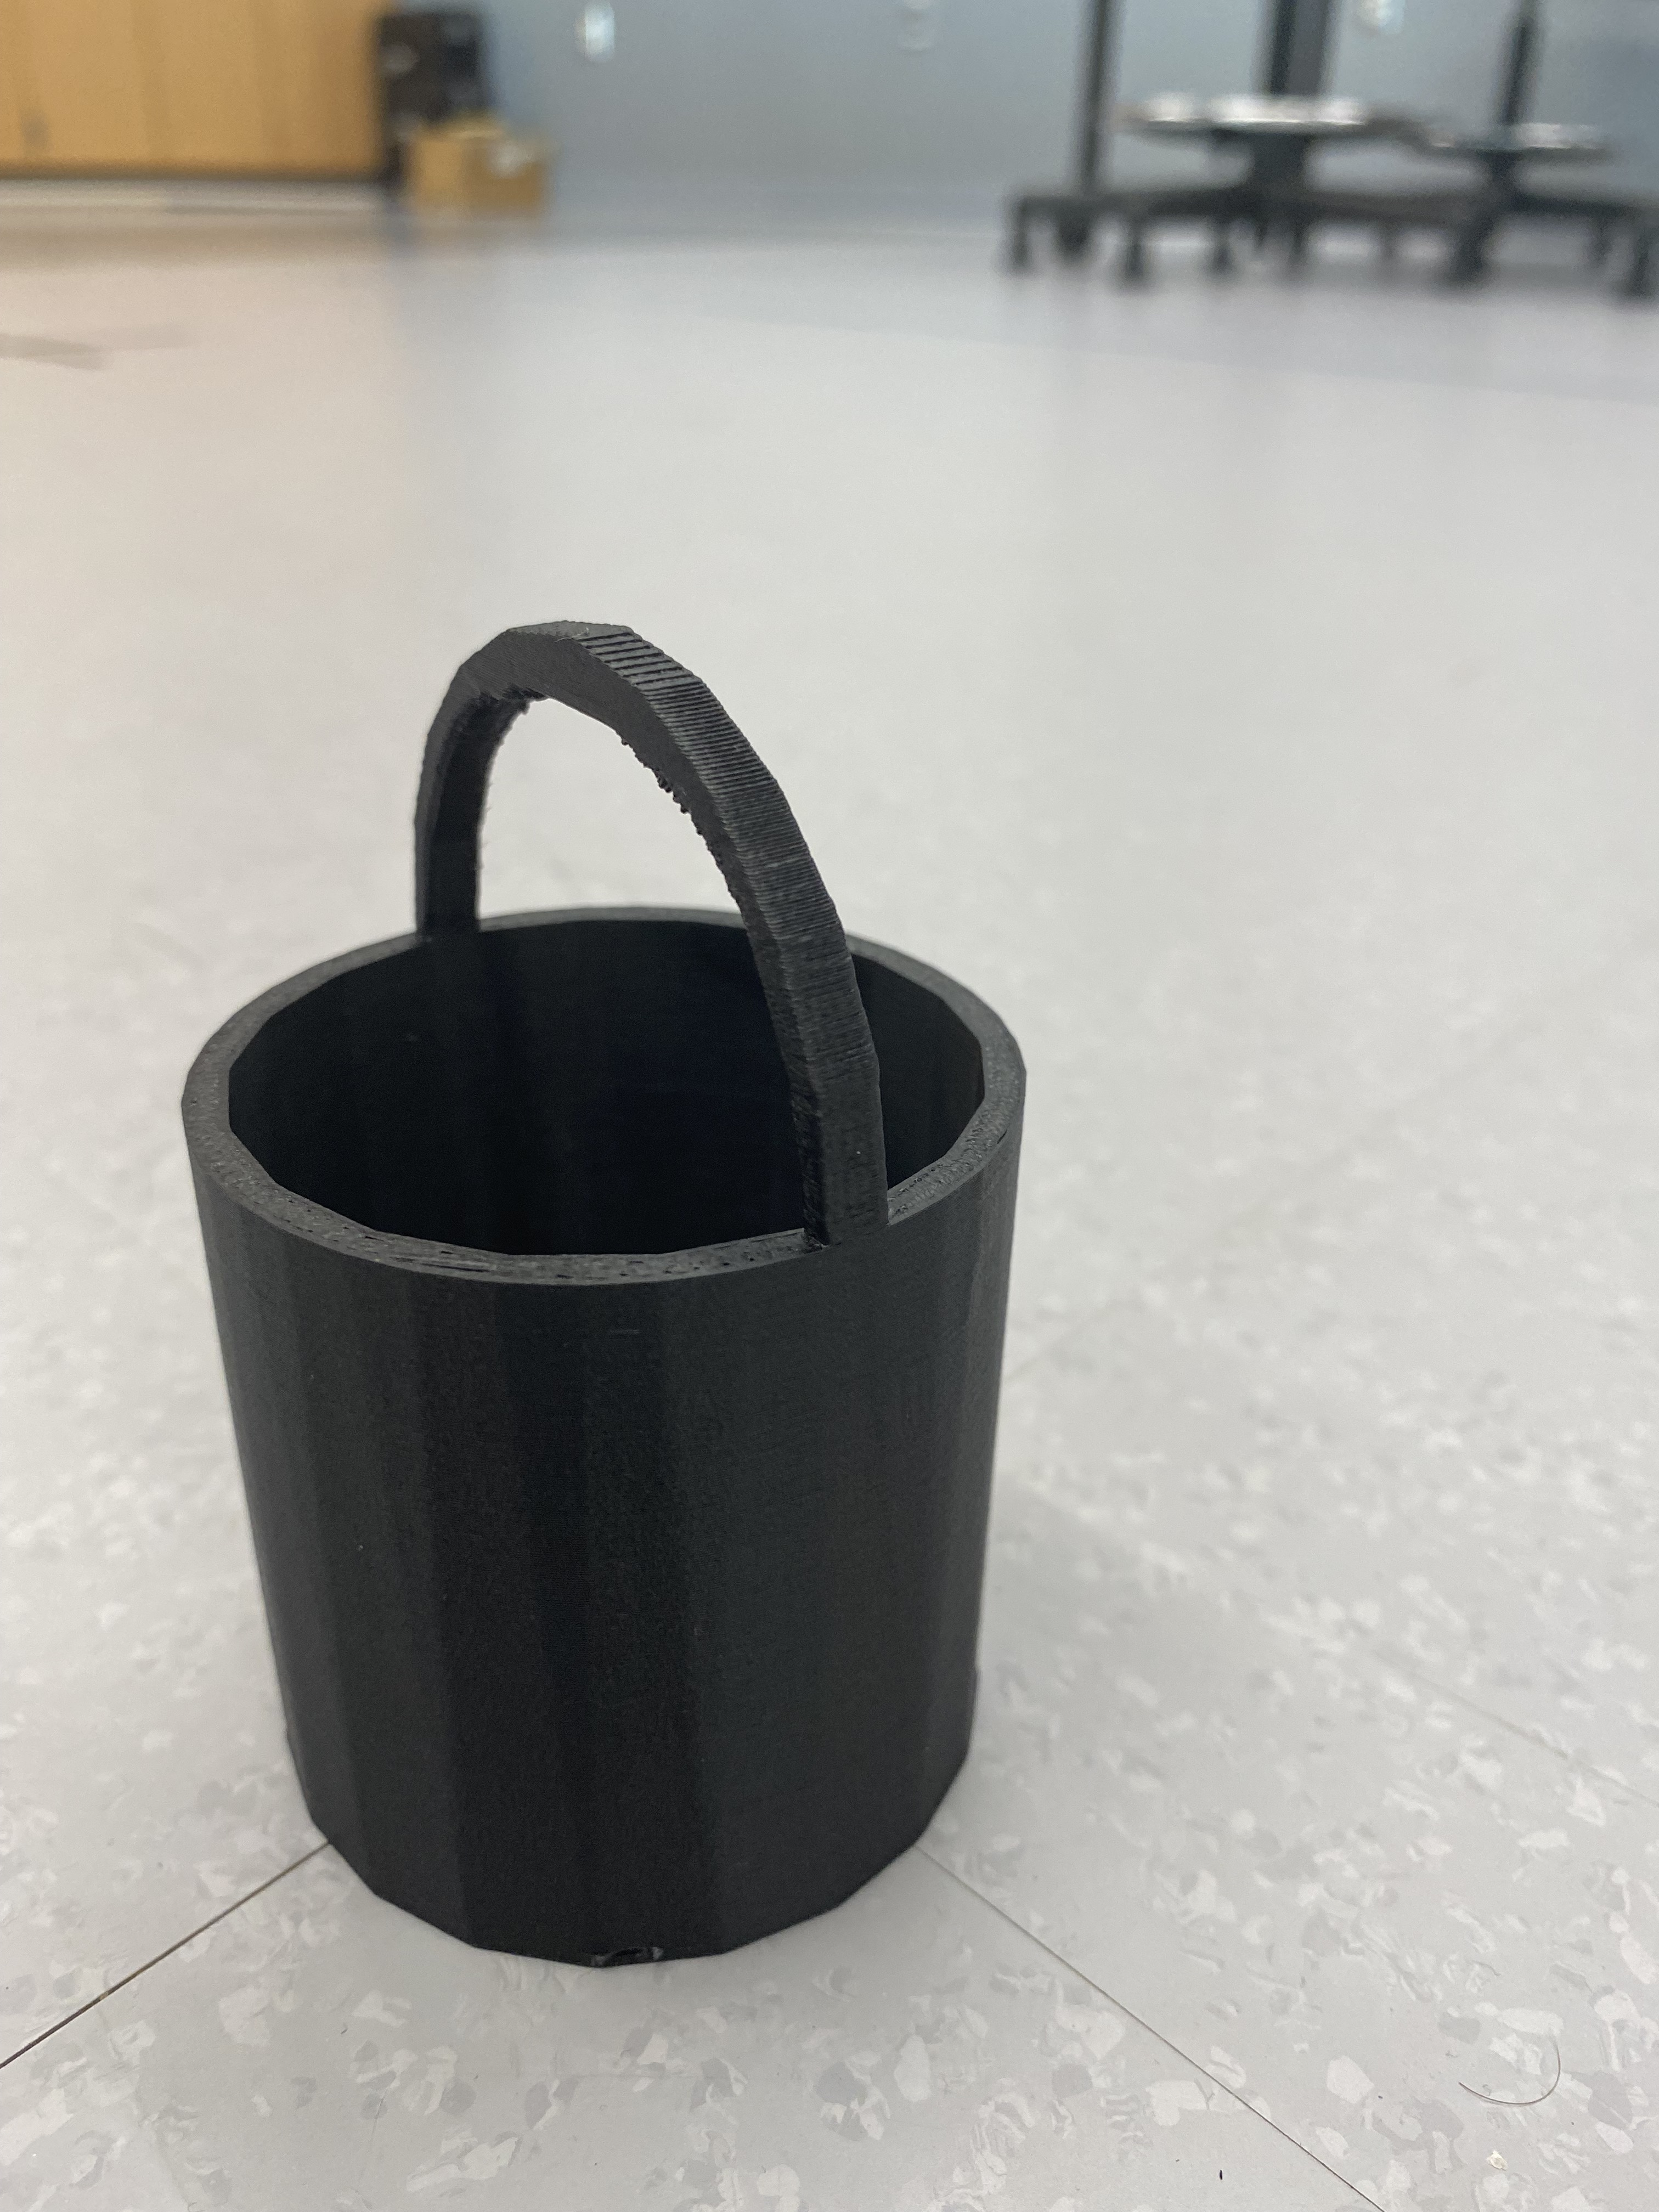bag: (178, 599, 1044, 1979)
